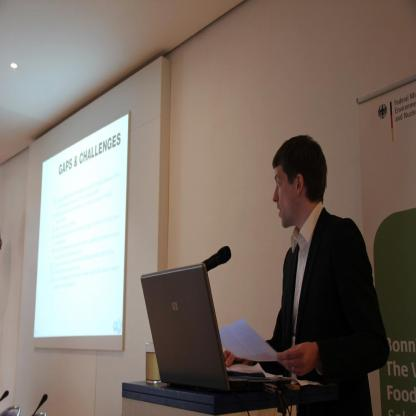board: (134, 262, 279, 404)
